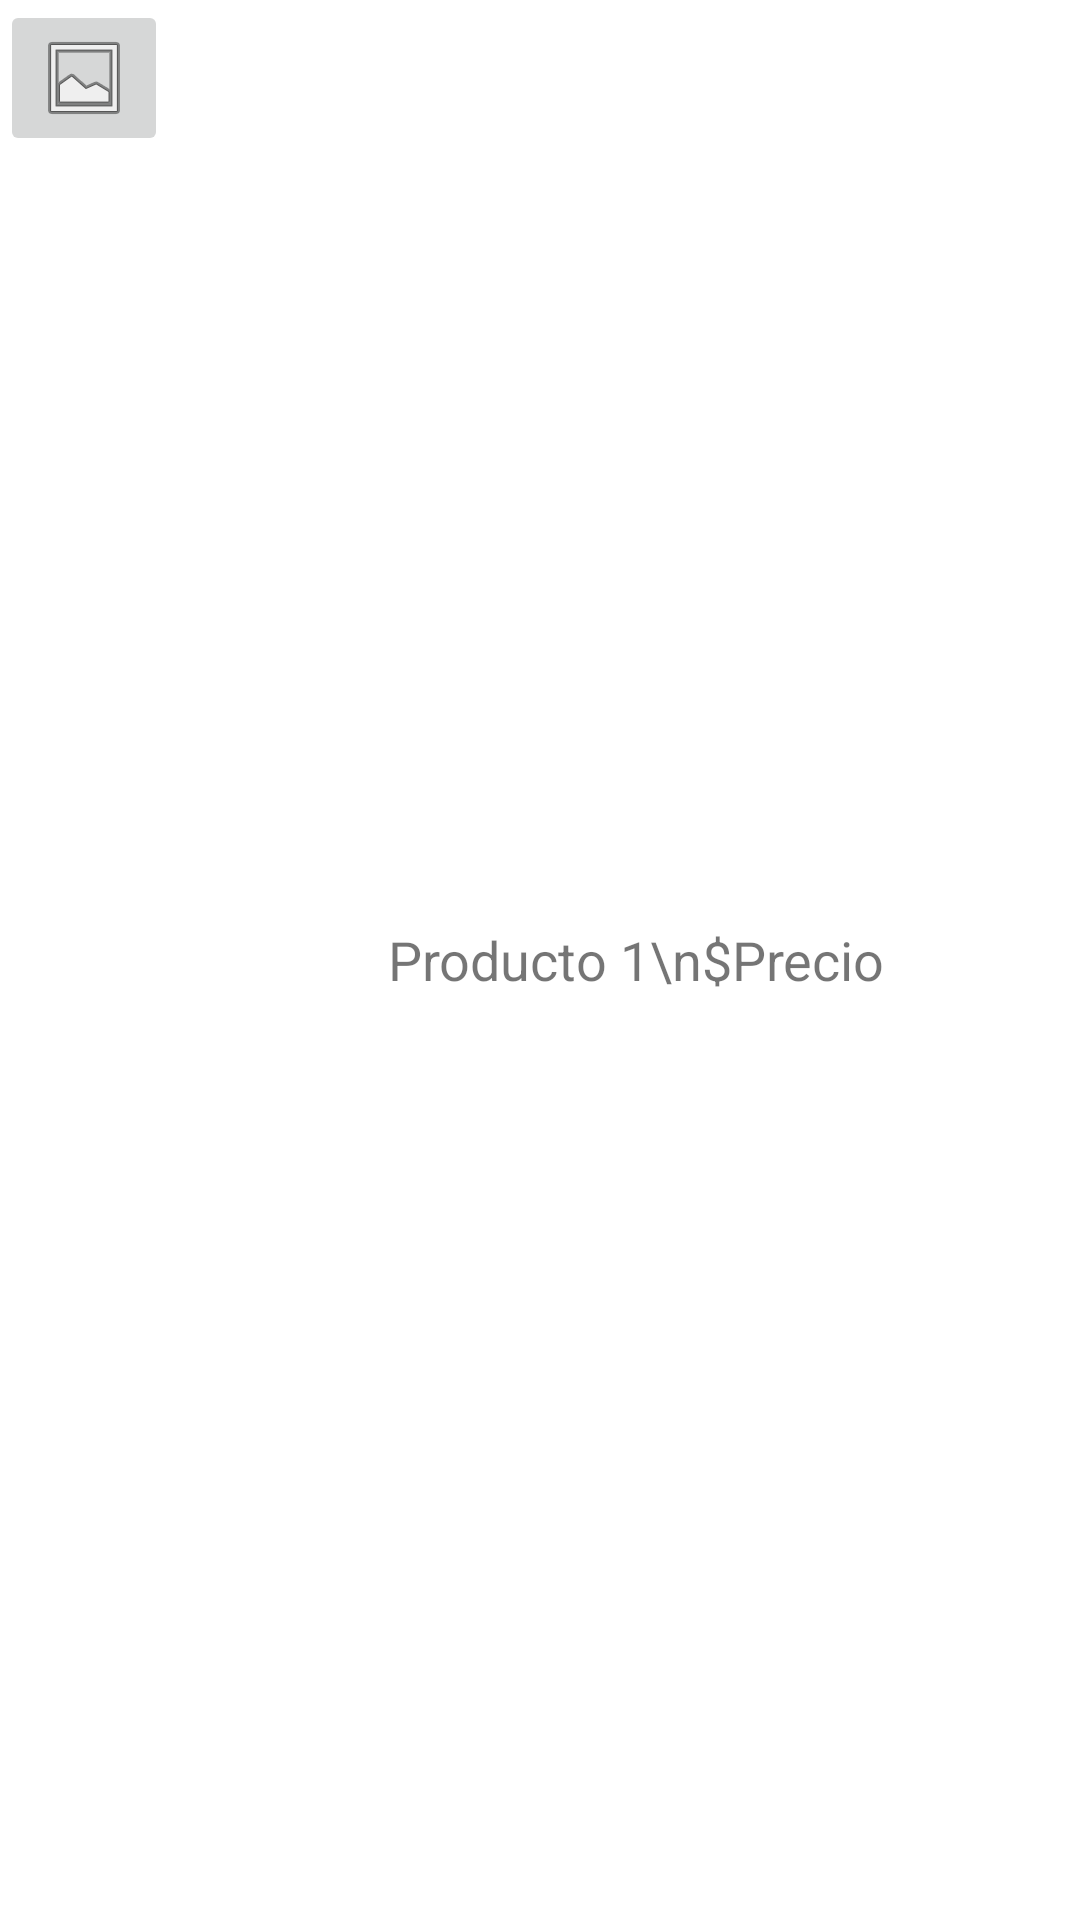

Where to tap for icons on this 1080px×1920px app screen, as (x,y):
gallery: (84,78)
